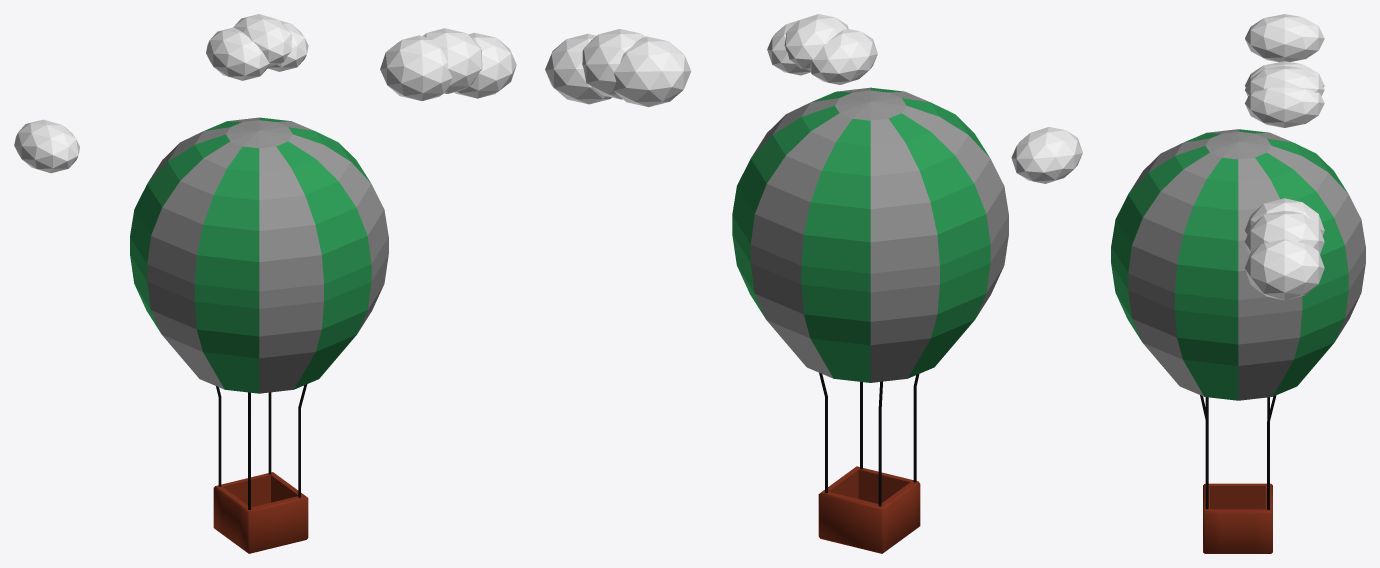
File: HotAirBallon_1389.obj
3 renders of one model, left to right at view 1: azimuth 30°, elevation 25°; view 2: azimuth 150°, elevation 25°; view 3: azimuth 270°, elevation 25°, orthographic. The views are drawn at different scales.
Parts seen in each view (by area): view 1: Capsule001; view 2: Capsule001; view 3: Capsule001.
Part boxes in pixels (x1,y1,x2,y2): Capsule001: (14, 14, 516, 553); Capsule001: (545, 14, 1082, 553); Capsule001: (1111, 14, 1365, 553).
Size of the model in its own units: 103 by 98.72 by 47.14.
